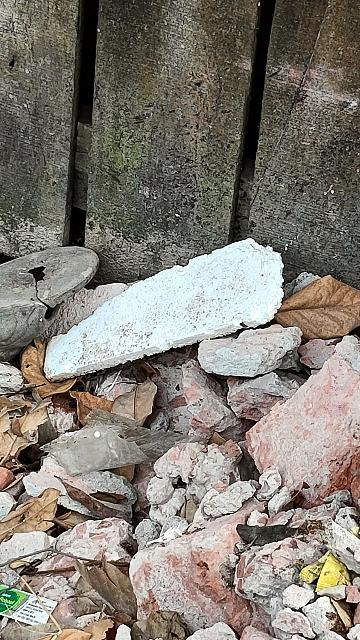cocksheet: (17, 226, 284, 384)
